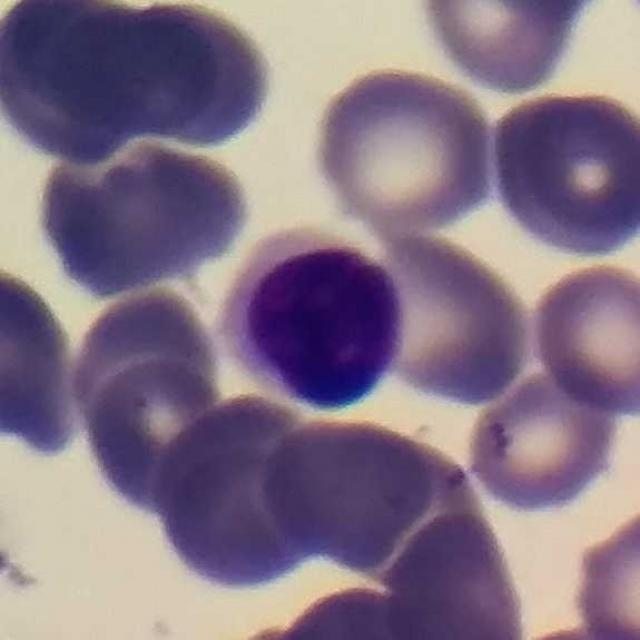Lymphocyte: (209, 221, 413, 424)
Platelets: (0, 541, 14, 584)
RBC: (68, 302, 240, 578), (22, 126, 260, 305), (138, 384, 334, 600), (354, 222, 540, 412), (304, 60, 500, 236), (481, 82, 640, 265), (250, 428, 442, 572), (61, 284, 226, 448), (461, 363, 630, 520), (124, 0, 276, 149), (0, 0, 133, 152), (408, 0, 604, 98), (376, 517, 530, 640), (526, 258, 639, 419), (0, 261, 71, 460), (566, 498, 640, 640), (500, 619, 640, 640)
